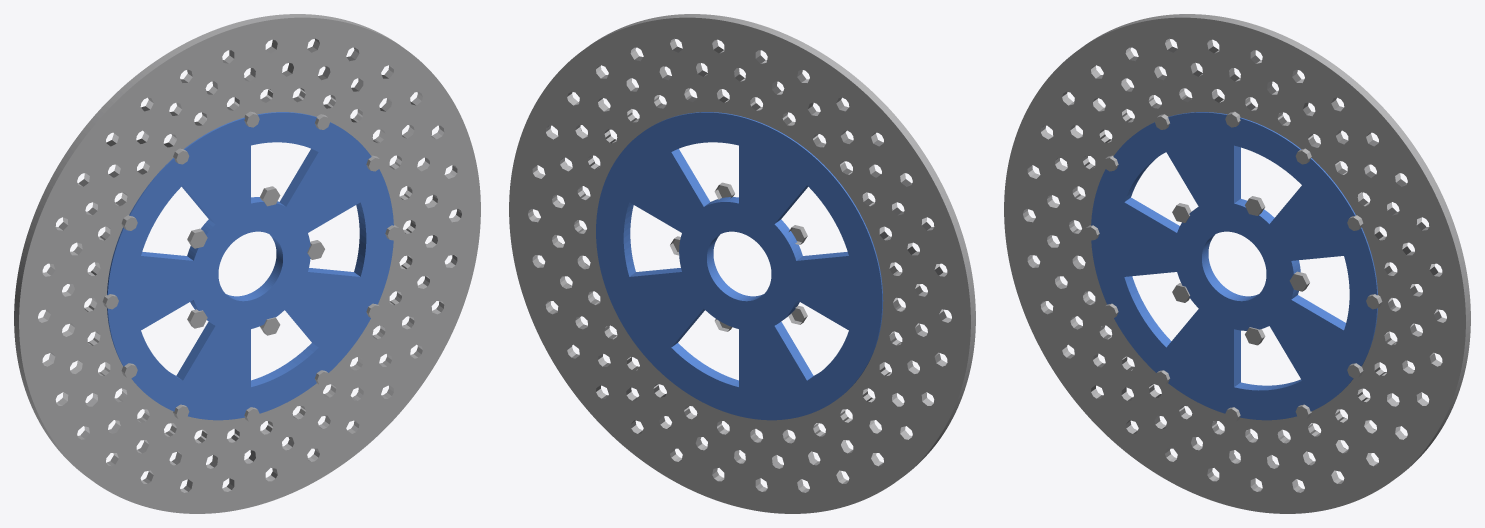
The model's file is drilled_floating_320.glb.
3 renders of one model, left to right at view 1: azimuth 30°, elevation 25°; view 2: azimuth 150°, elevation 25°; view 3: azimuth 330°, elevation 25°, orthographic.
Visible parts, largest first — view 1: drilled_floating_320; view 2: drilled_floating_320; view 3: drilled_floating_320.
Part boxes in pixels (x1,y1,x2,y2): drilled_floating_320: (14, 14, 480, 513); drilled_floating_320: (509, 14, 975, 513); drilled_floating_320: (1004, 14, 1470, 513).
Bounding box in the file's own units: 0.32 × 0.32 × 0.011.
